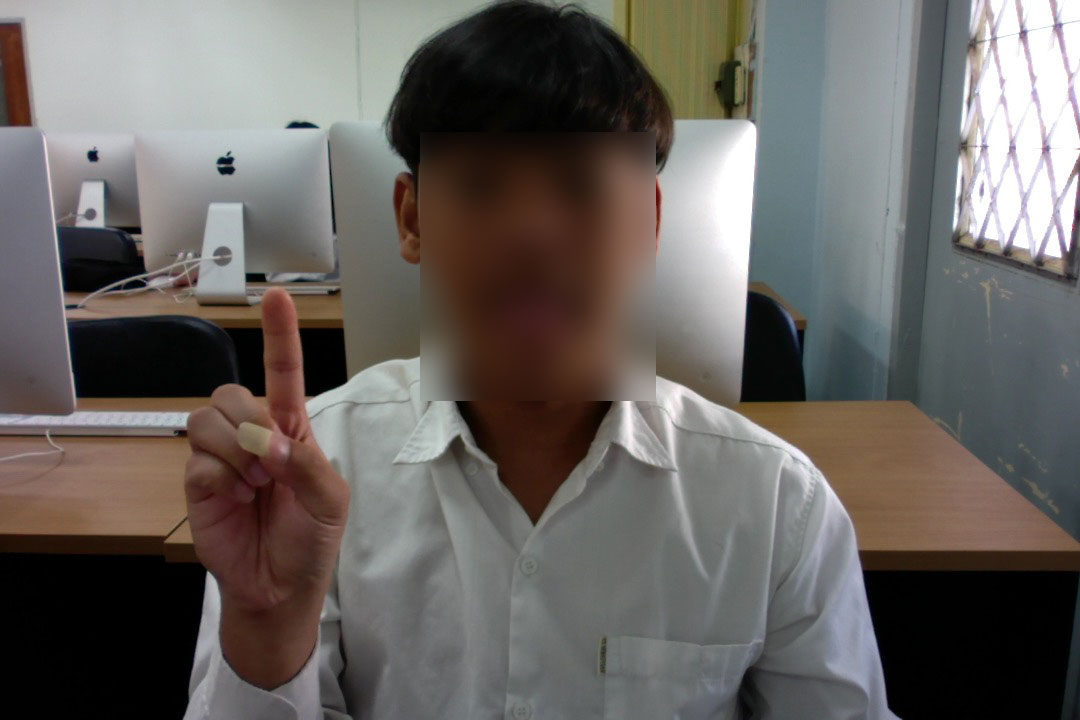dor: (181, 279, 356, 630)
